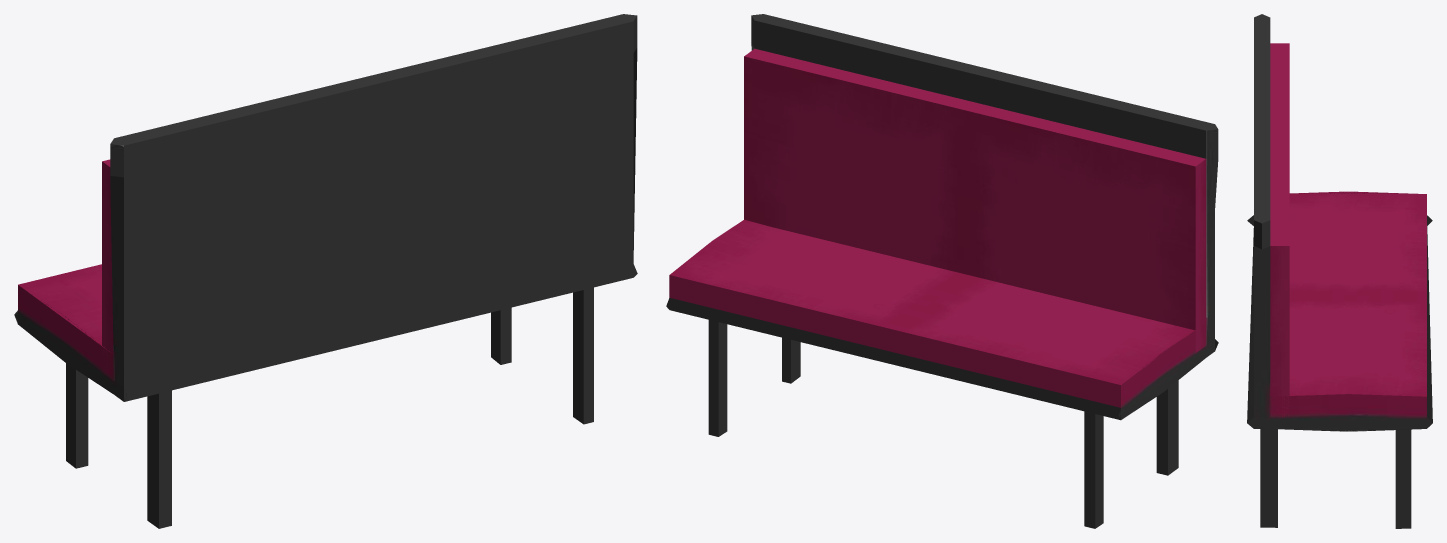
The model's file is Sofa_Model.fbx.
3 views of the same model, side by side, from view 1: azimuth 30°, elevation 25°; view 2: azimuth 150°, elevation 25°; view 3: azimuth 270°, elevation 25° (orthographic). The views are drawn at different scales.
Parts seen in each view (by area): view 1: Sofa; view 2: Sofa; view 3: Sofa.
Boxes of the visible parts, x1,y1,x2,y2 form: Sofa: (14,14,637,528); Sofa: (666,14,1218,528); Sofa: (1247,14,1432,528).
Size of the model in its own units: 7.65 by 5.49 by 2.87.
